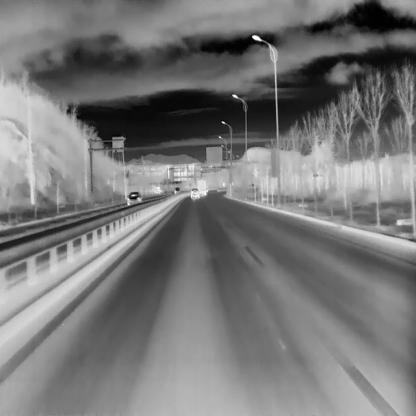car: (126, 191, 141, 205), (190, 187, 200, 197), (174, 186, 180, 193)
truck: (197, 180, 206, 195)
